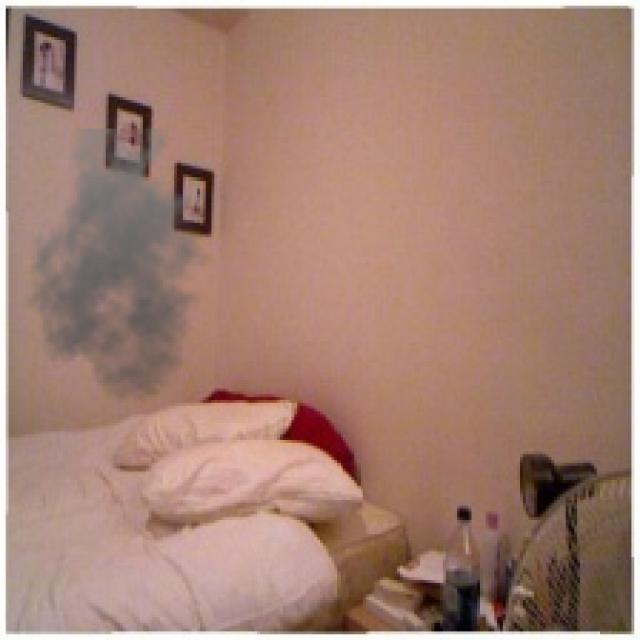smoke: (23, 128, 223, 403)
